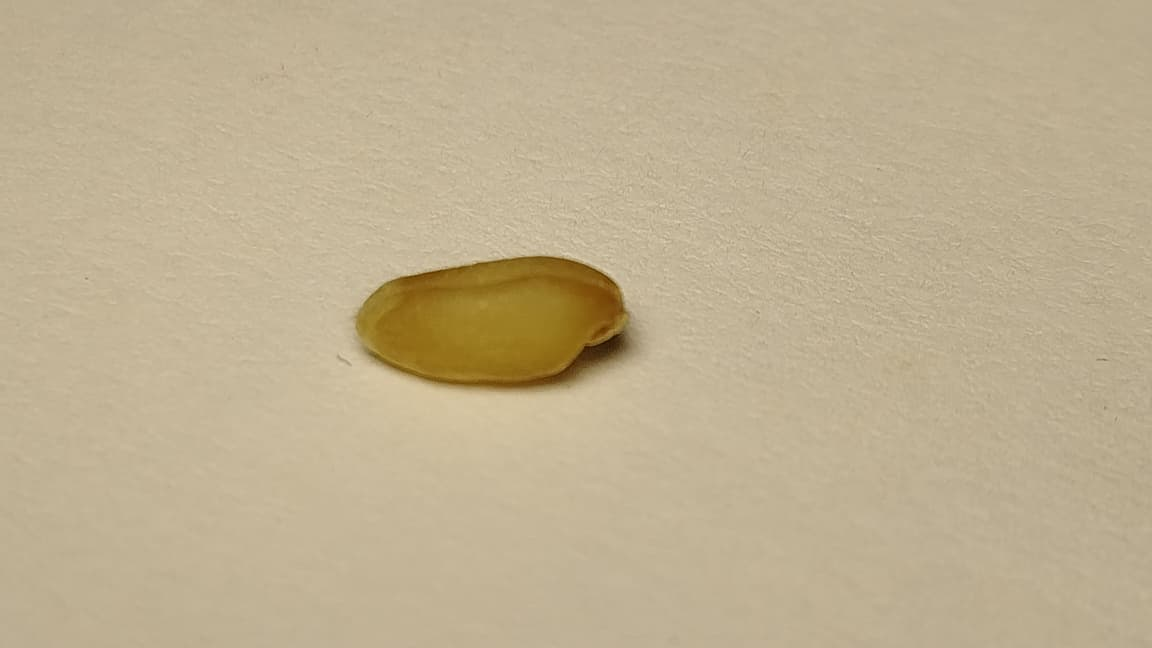healthy: (357, 256, 628, 383)
